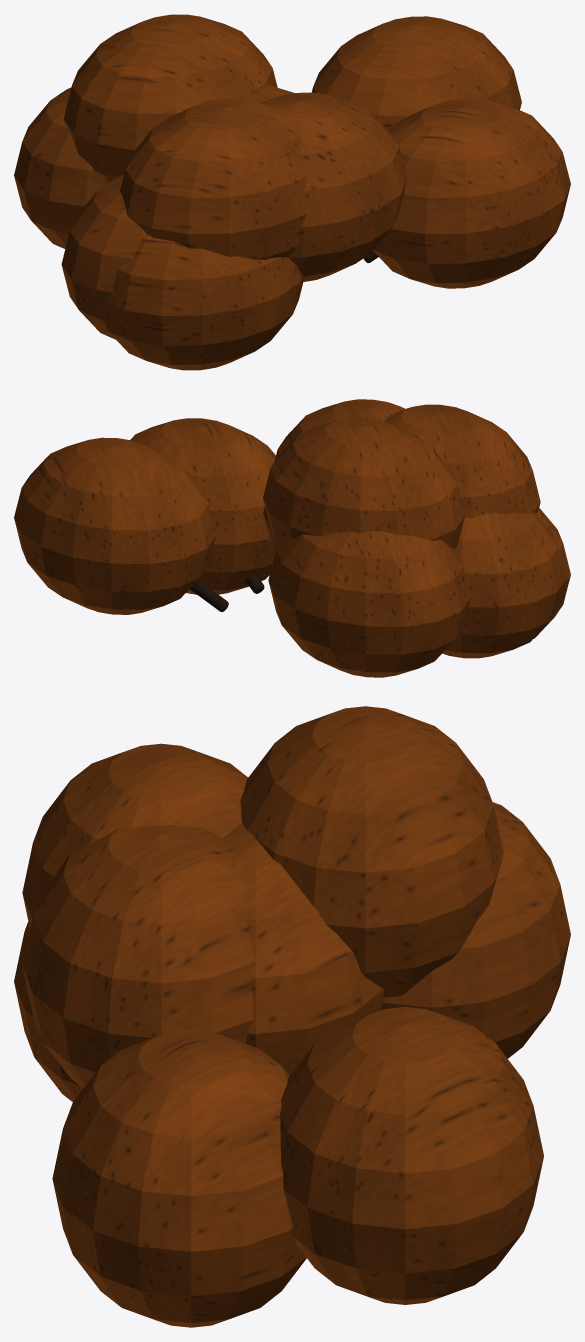
File: PROP-232976AA95F2_lod0.glb
The picture shows the model from 3 angles, top to bottom: view 1: azimuth 30°, elevation 25°; view 2: azimuth 150°, elevation 25°; view 3: azimuth 270°, elevation 25°; orthographic projection. The views are drawn at different scales.
Visible parts, largest first — view 1: foliage.011; view 2: foliage.011, plant_stem.011; view 3: foliage.011.
Boxes of the visible parts, box(x1,y1,x2,y2) form: foliage.011: box(14, 14, 570, 370); foliage.011: box(14, 399, 570, 677); plant_stem.011: box(190, 576, 264, 612); foliage.011: box(14, 706, 570, 1327).
Bounding box in the file's own units: 1.54 × 0.8023 × 0.9635.
2 materials, 2 textured.
